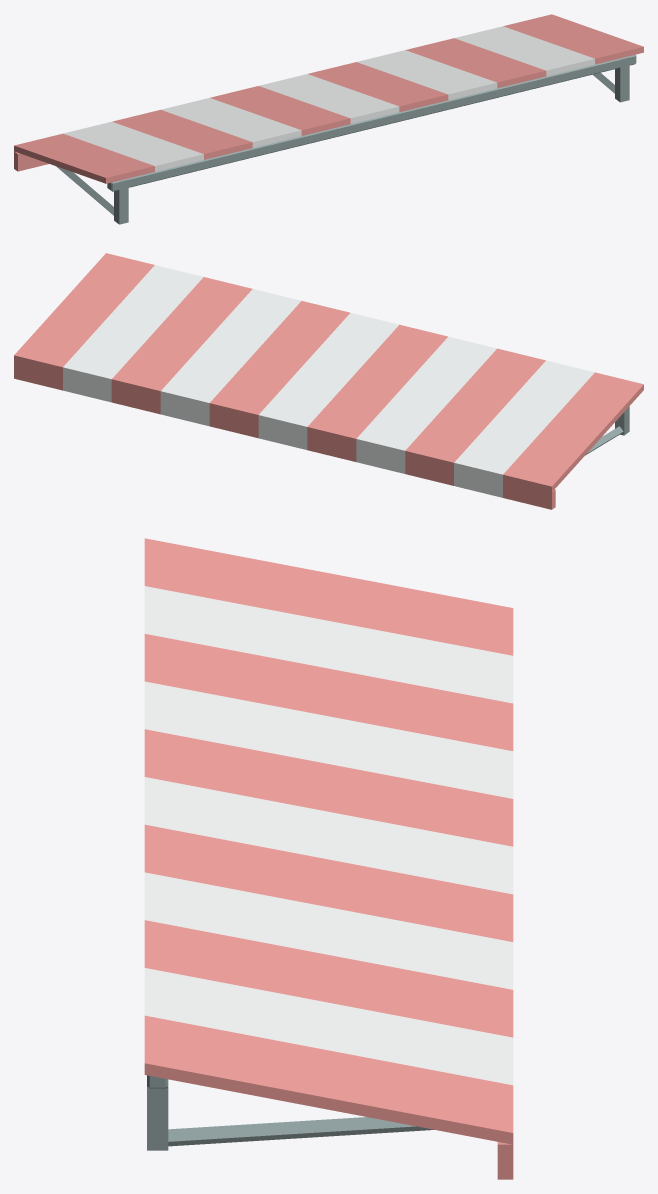
Rendered from street_awning_3.glb.
3 views of the same model, one above another, from view 1: azimuth 30°, elevation 25°; view 2: azimuth 150°, elevation 25°; view 3: azimuth 270°, elevation 25° (orthographic). The views are drawn at different scales.
Visible parts, largest first — view 1: RearRail, CanopyStripe0, CanopyStripe6, CanopyStripe5, CanopyStripe8, CanopyStripe4, CanopyStripe9, CanopyStripe1, CanopyStripe3, CanopyStripe10, CanopyStripe2, CanopyStripe7 (+4 smaller); view 2: CanopyStripe0, CanopyStripe8, CanopyStripe4, CanopyStripe3, CanopyStripe7, CanopyStripe6, CanopyStripe5, CanopyStripe2, CanopyStripe1, CanopyStripe9, CanopyStripe10, Valance0 (+10 smaller); view 3: CanopyStripe10, CanopyStripe0, CanopyStripe1, CanopyStripe3, CanopyStripe4, CanopyStripe8, CanopyStripe5, CanopyStripe6, CanopyStripe7, CanopyStripe9, CanopyStripe2, SupportBracket.001 (+1 smaller).
Boxes of the visible parts, x1,y1,x2,y2 form: RearRail: (107,54,636,191); CanopyStripe0: (14,133,154,183); CanopyStripe6: (308,62,448,112); CanopyStripe5: (259,74,399,123); CanopyStripe8: (405,38,546,88); CanopyStripe4: (210,86,350,135); CanopyStripe9: (454,26,594,76); CanopyStripe1: (63,121,203,171); CanopyStripe3: (161,98,301,147); CanopyStripe10: (503,14,643,64); CanopyStripe2: (112,109,252,159); CanopyStripe7: (357,50,497,100); CanopyStripe0: (503,372,643,492); CanopyStripe8: (111,277,252,396); CanopyStripe4: (307,324,447,444); CanopyStripe3: (356,336,496,456); CanopyStripe7: (160,289,301,408); CanopyStripe6: (209,301,350,420); CanopyStripe5: (258,313,398,432); CanopyStripe2: (405,348,545,468); CanopyStripe1: (454,360,594,480); CanopyStripe9: (63,265,203,384); CanopyStripe10: (14,253,154,372); Valance0: (503,480,555,509); CanopyStripe10: (144,1015,513,1144); CanopyStripe0: (144,538,513,655); CanopyStripe1: (144,586,513,703); CanopyStripe3: (144,681,513,798); CanopyStripe4: (144,729,513,846); CanopyStripe8: (144,920,513,1037); CanopyStripe5: (144,777,513,894); CanopyStripe6: (144,824,513,941); CanopyStripe7: (144,872,513,989); CanopyStripe9: (144,968,513,1085); CanopyStripe2: (144,634,513,750); SupportBracket.001: (168,1117,433,1146).
Bounding box in the file's own units: 1.32 × 0.1363 × 0.3909.
